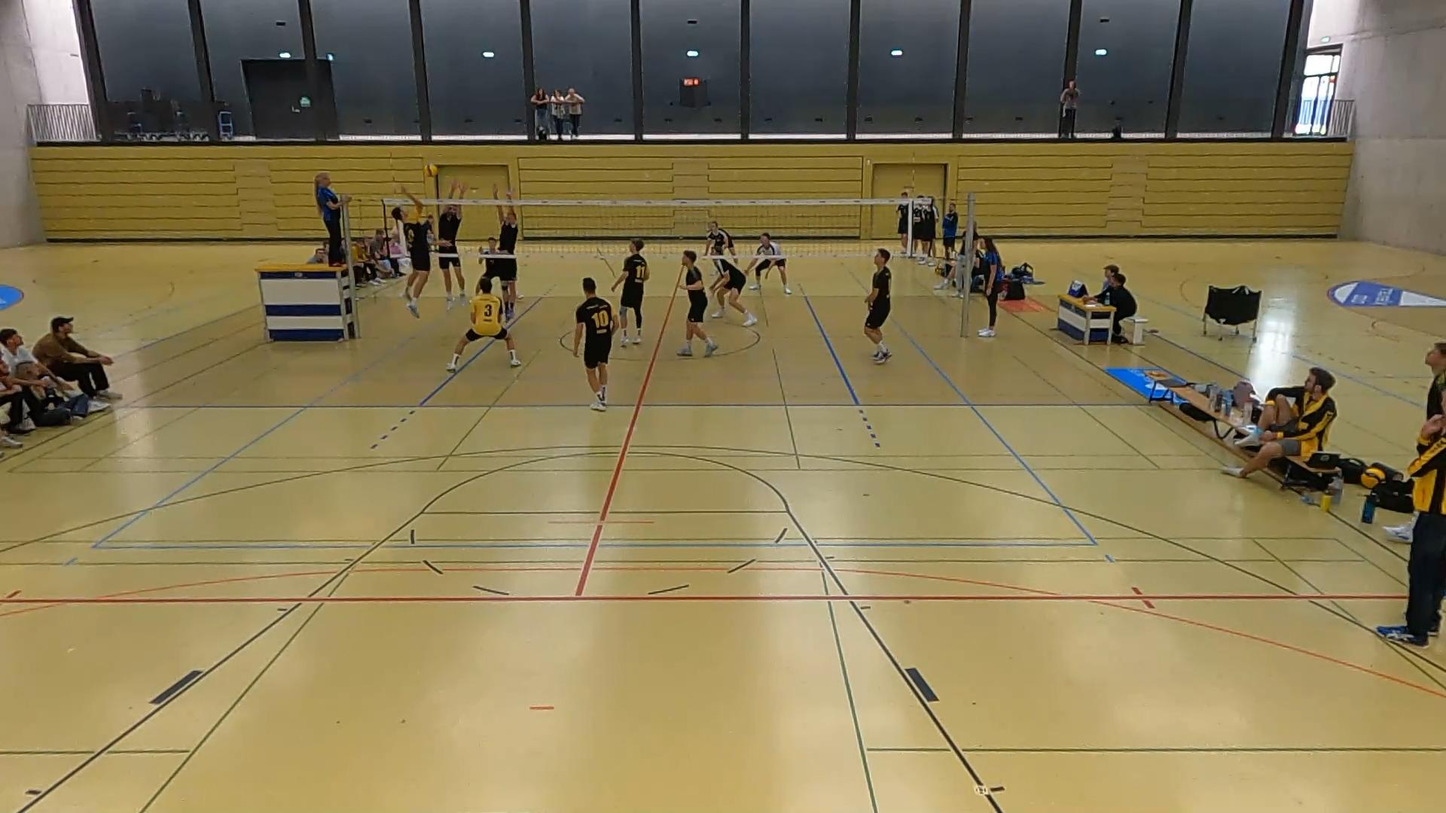Attack: (385, 181, 438, 322)
Block: (423, 175, 471, 316), (492, 185, 523, 324)
Player: (446, 277, 520, 372), (572, 277, 614, 411), (705, 221, 755, 326), (677, 251, 716, 356), (611, 238, 648, 346), (863, 248, 891, 364), (745, 232, 791, 293), (478, 237, 499, 278)
ball: (420, 159, 439, 181)
